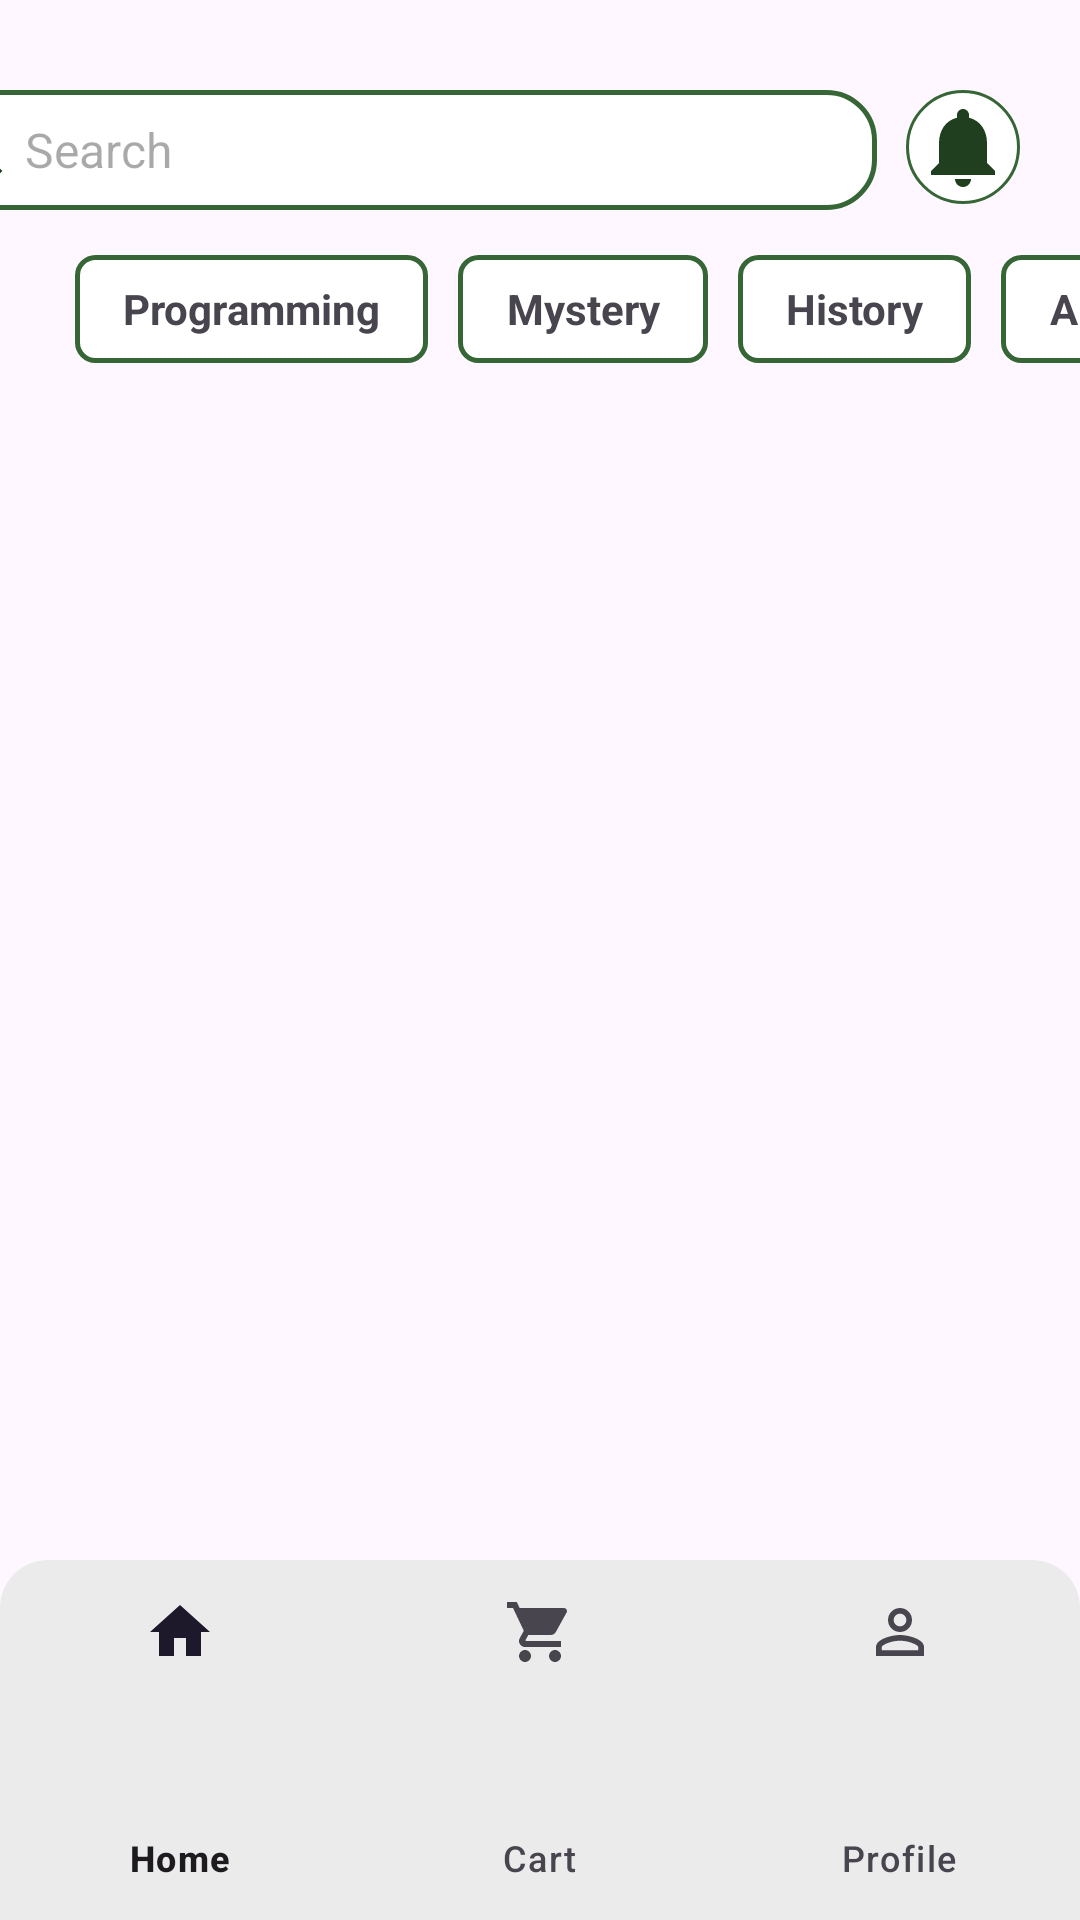

Icons on this 1080px x 1920px Android screen, each with its box as rect(x1, y1, x2, y2):
notifications: rect(931, 109, 995, 187)
